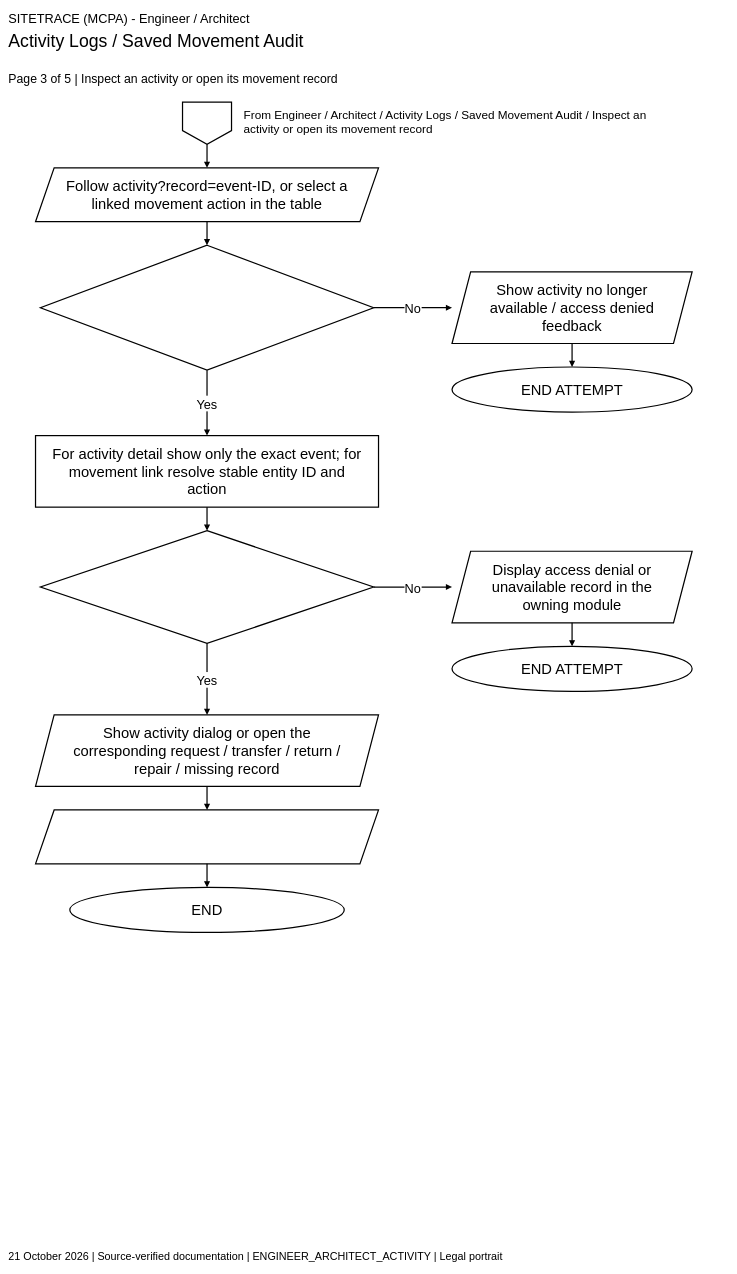
This 737x1274 diagram has some shape labels left out. The box of each missing label's shape, as (x1, y1, x2, y2) in pixels:
Exact activity record remains authorized and loaded?: (40, 244, 374, 371)
LD: (182, 101, 232, 145)
Linked movement route is authorized?: (40, 530, 374, 644)
The saved activity or its referenced authorized movement record is displayed.: (35, 809, 379, 864)
